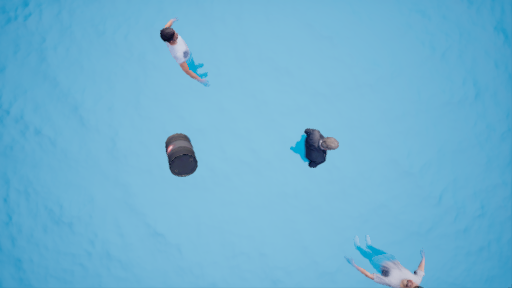person: (350, 233, 436, 288), (162, 20, 224, 90), (294, 125, 340, 170)
